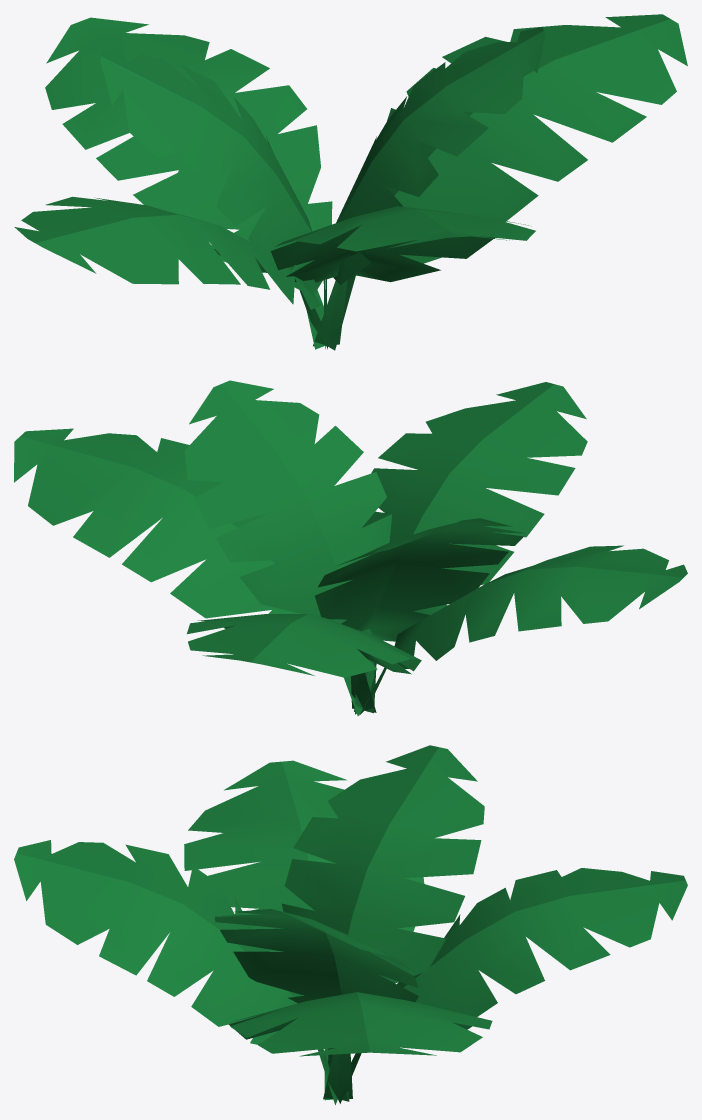
File: gras.glb
3 views of the same model, one above another, from view 1: azimuth 30°, elevation 25°; view 2: azimuth 150°, elevation 25°; view 3: azimuth 270°, elevation 25° (orthographic). The views are drawn at different scales.
Visible parts, largest first — view 1: Plane.042_leaves2.002_0; view 2: Plane.042_leaves2.002_0; view 3: Plane.042_leaves2.002_0.
Boxes of the visible parts, x1,y1,x2,y2 form: Plane.042_leaves2.002_0: (14,14,687,350); Plane.042_leaves2.002_0: (14,380,687,715); Plane.042_leaves2.002_0: (14,745,687,1104).
Size of the model in its own units: 1.68 by 0.6859 by 1.52.
